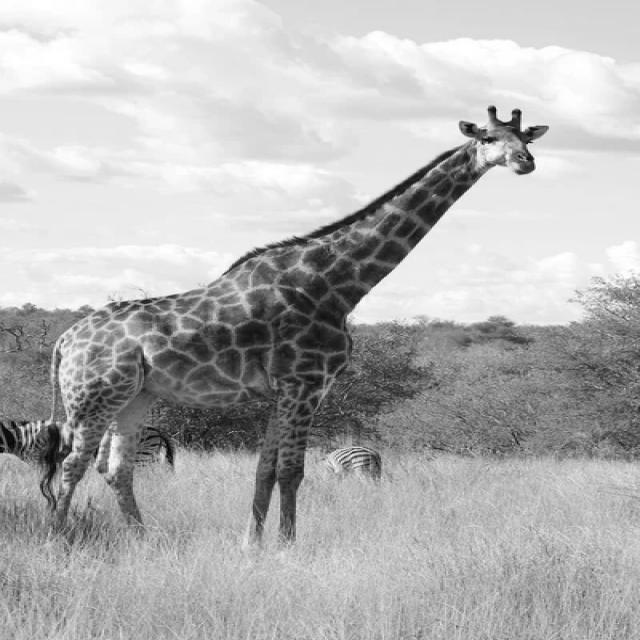Animal: (35, 104, 566, 541)
